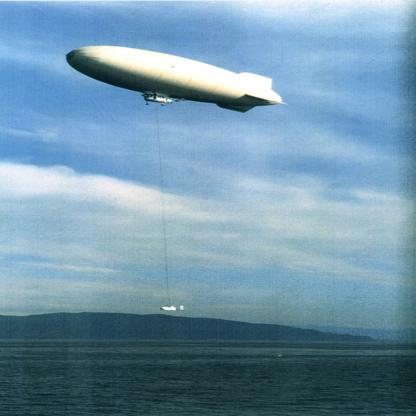Airship: (60, 43, 288, 123)
